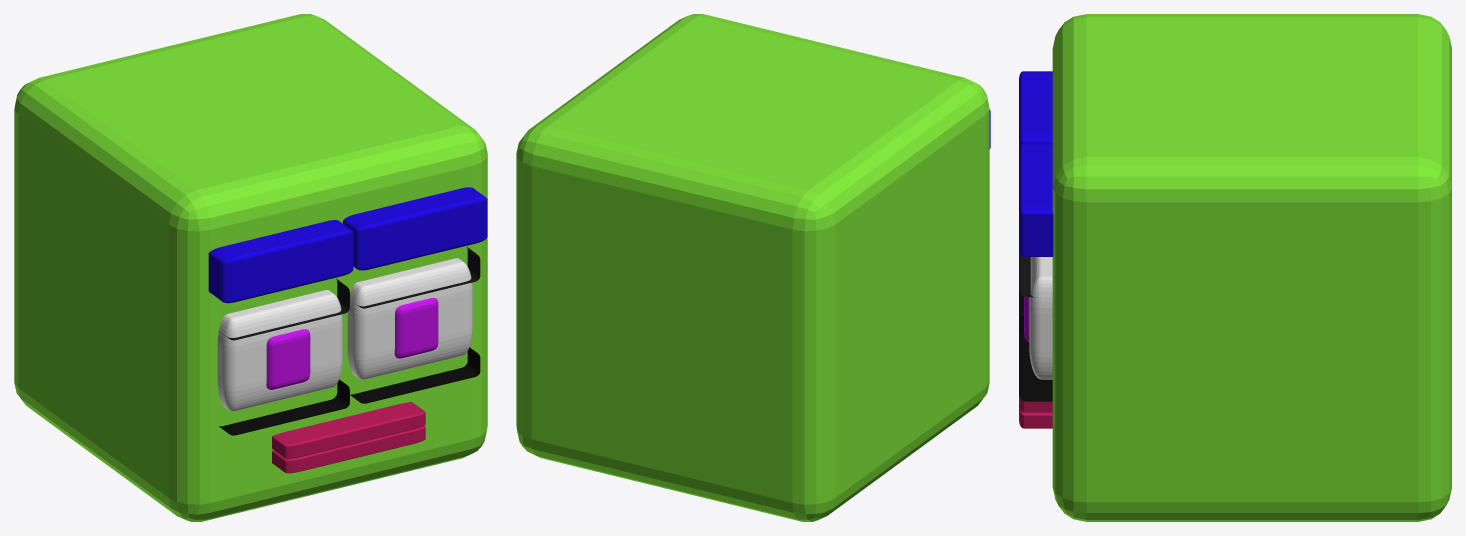
Rendered from fog.glb.
The picture shows the model from 3 angles, left to right: view 1: azimuth 30°, elevation 25°; view 2: azimuth 150°, elevation 25°; view 3: azimuth 270°, elevation 25°; orthographic projection. The views are drawn at different scales.
Parts seen in each view (by area): view 1: Cube.001; view 2: Cube.001; view 3: Cube.001.
Part boxes in pixels (x1,y1,x2,y2): Cube.001: (14, 14, 487, 521); Cube.001: (516, 14, 990, 521); Cube.001: (1019, 14, 1451, 521).
Size of the model in its own units: 2 by 2 by 2.17.
